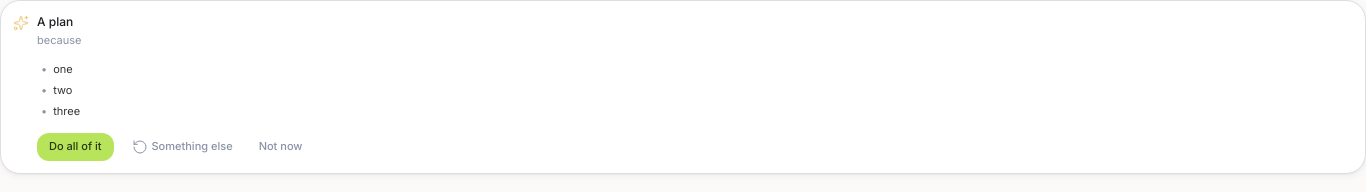
Test case: dropping individual lines › will not accept an empty selection
This screenshot has width=1366, height=192.
Later steps or results of the test are not shown.
Click the button with test id "proposal-line" showing "• one".
click(44, 69)  # box [37,60,1353,79]
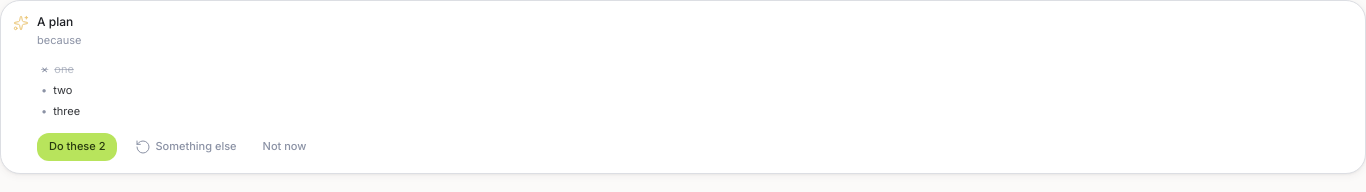
Click the button with test id "proposal-line" showing "• two".
click(44, 90)  # box [37,81,1353,100]
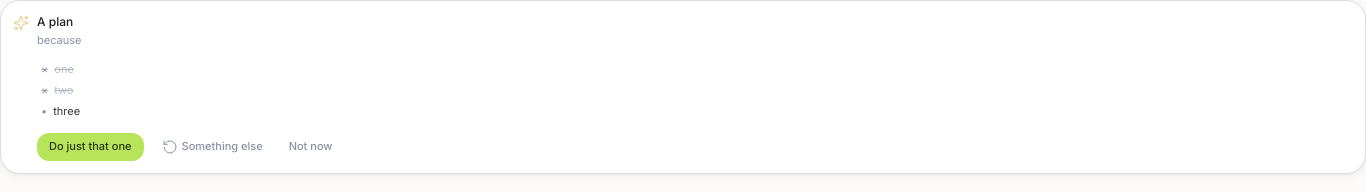
Click the button with test id "proposal-line" showing "• three".
click(44, 111)  # box [37,102,1353,121]
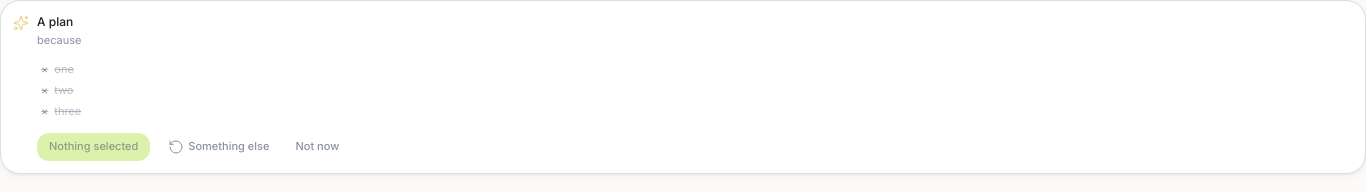
expect the button with test id "proposal-accept" is disabled: met, box [37,133,150,161]
